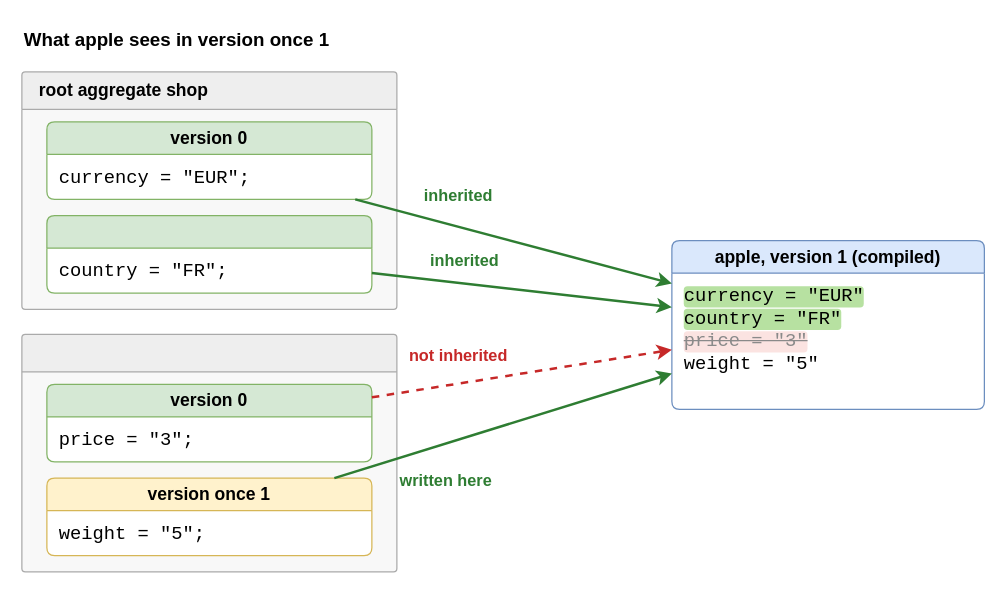
Image size: 1006x594. Some labels were removed from this diagram. Each missing label, with the box of its shape:
aggregate apple: (21, 333, 397, 572)
version 1: (46, 214, 372, 293)
